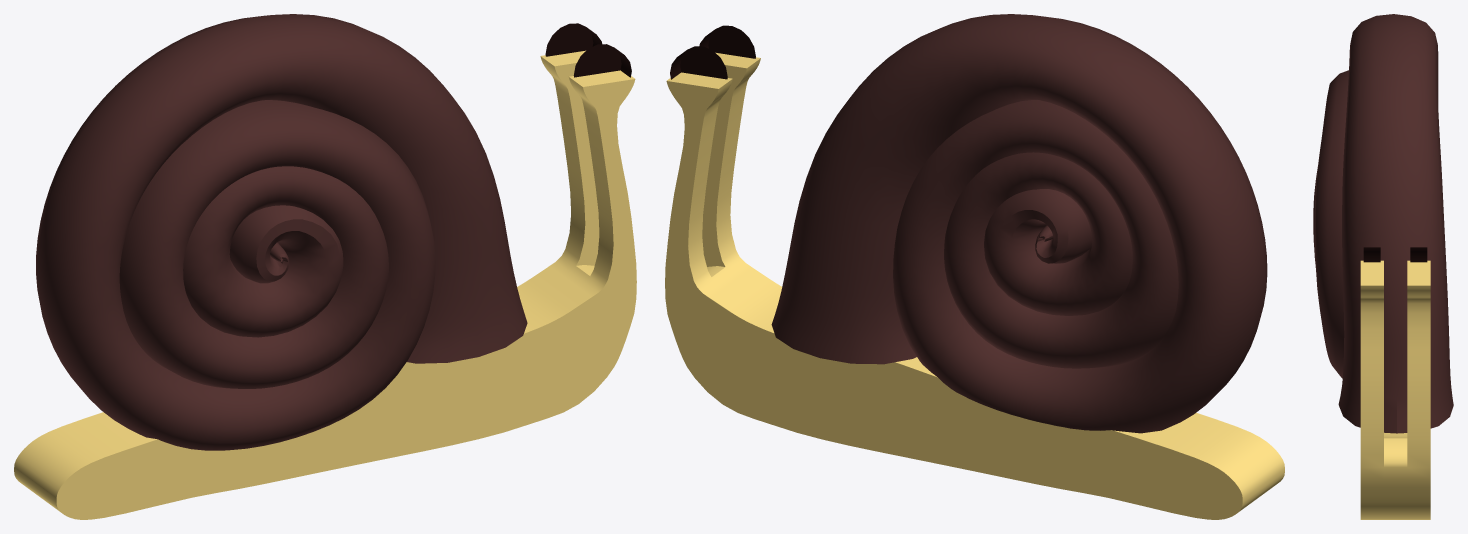
Rendered from Snail.gltf.
3 views of the same model, side by side, from view 1: azimuth 30°, elevation 25°; view 2: azimuth 150°, elevation 25°; view 3: azimuth 270°, elevation 25° (orthographic). The views are drawn at different scales.
Visible parts, largest first — view 1: Circle.1994, Circle.1990; view 2: Circle.1994, Circle.1990; view 3: Circle.1994, Circle.1990.
Boxes of the visible parts, left/top/right/bottom form: Circle.1994: left=36, top=14, right=527, bottom=450; Circle.1990: left=14, top=23, right=636, bottom=519; Circle.1994: left=771, top=14, right=1267, bottom=433; Circle.1990: left=665, top=25, right=1284, bottom=519; Circle.1994: left=1313, top=14, right=1453, bottom=433; Circle.1990: left=1360, top=247, right=1430, bottom=519.
Bounding box in the file's own units: 2.09 × 1.55 × 0.5303.
3 materials, 1 textured.
